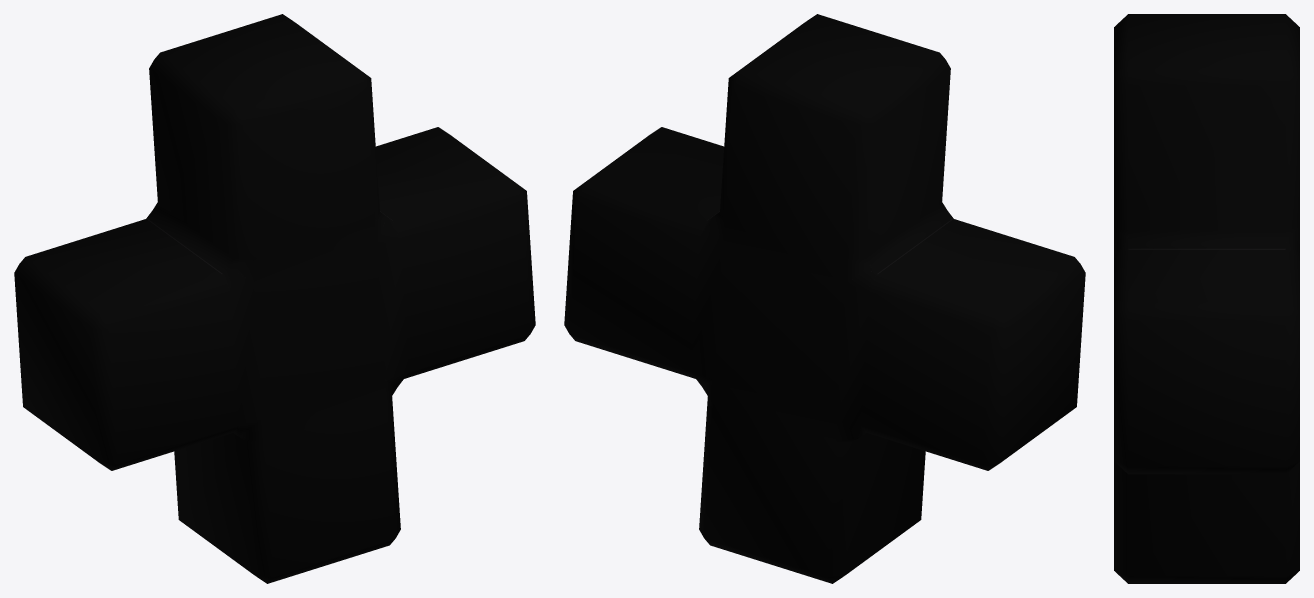
Rendered from salud pintada.fbx.
The picture shows the model from 3 angles, left to right: view 1: azimuth 30°, elevation 25°; view 2: azimuth 150°, elevation 25°; view 3: azimuth 270°, elevation 25°; orthographic projection. The views are drawn at different scales.
Visible parts, largest first — view 1: node_id4; view 2: node_id4; view 3: node_id4.
Part boxes in pixels (bbox=[...]): node_id4: bbox=[14, 14, 535, 583]; node_id4: bbox=[564, 14, 1085, 583]; node_id4: bbox=[1114, 14, 1299, 583].
Size of the model in its own units: 0.4927 by 0.52 by 0.1717.
1 material, 1 textured.
